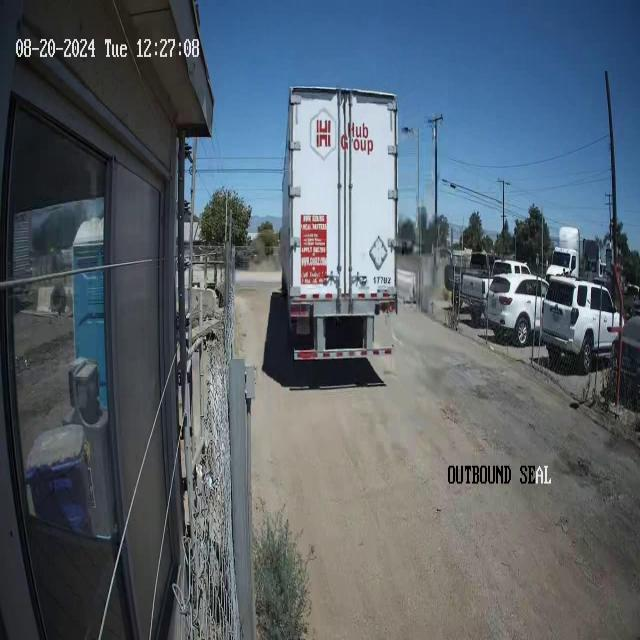CONTAINER: (281, 84, 398, 317)
